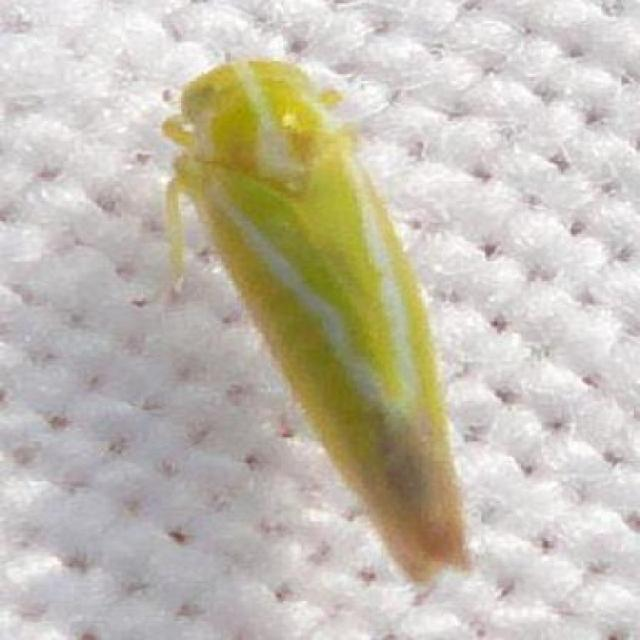green-leafhopper: (144, 48, 478, 586)
